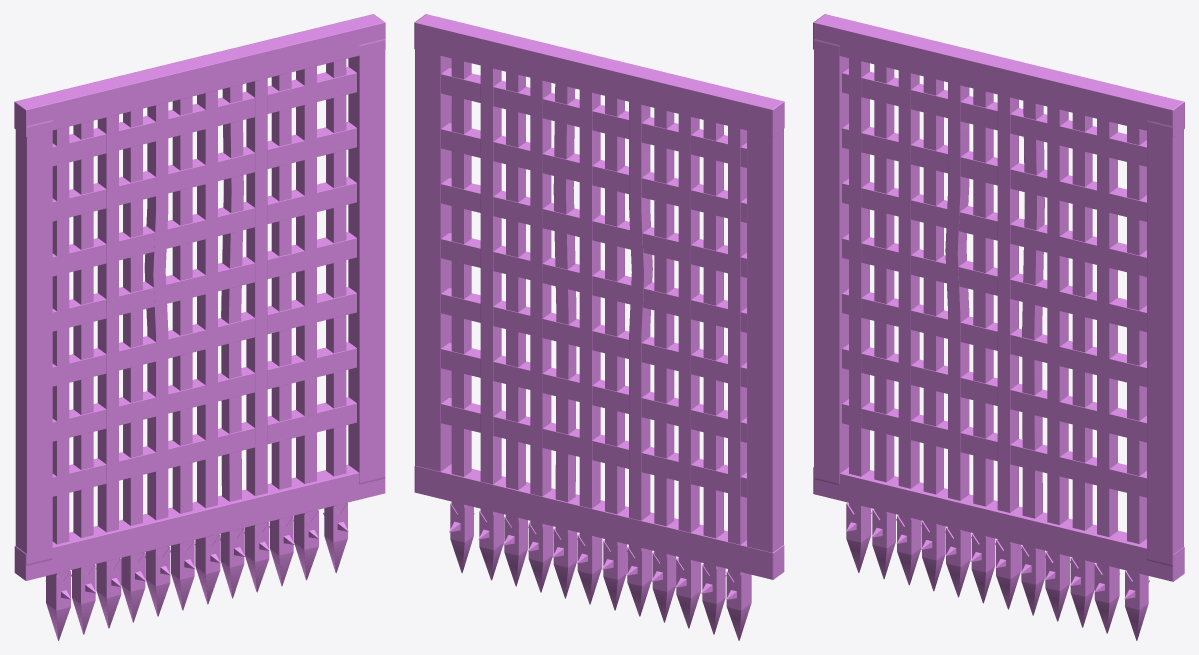
The model's file is SM_CastleIronDoor_A_001.FBX.
3 views of the same model, side by side, from view 1: azimuth 30°, elevation 25°; view 2: azimuth 150°, elevation 25°; view 3: azimuth 330°, elevation 25° (orthographic).
Visible parts, largest first — view 1: SM_CastleIronDoor_A_001; view 2: SM_CastleIronDoor_A_001; view 3: SM_CastleIronDoor_A_001.
Boxes of the visible parts, x1=… form: SM_CastleIronDoor_A_001: x1=14, y1=14, x2=385, y2=640; SM_CastleIronDoor_A_001: x1=414, y1=14, x2=784, y2=640; SM_CastleIronDoor_A_001: x1=813, y1=14, x2=1184, y2=640.
Size of the model in its own units: 755 by 1094 by 93.06.
